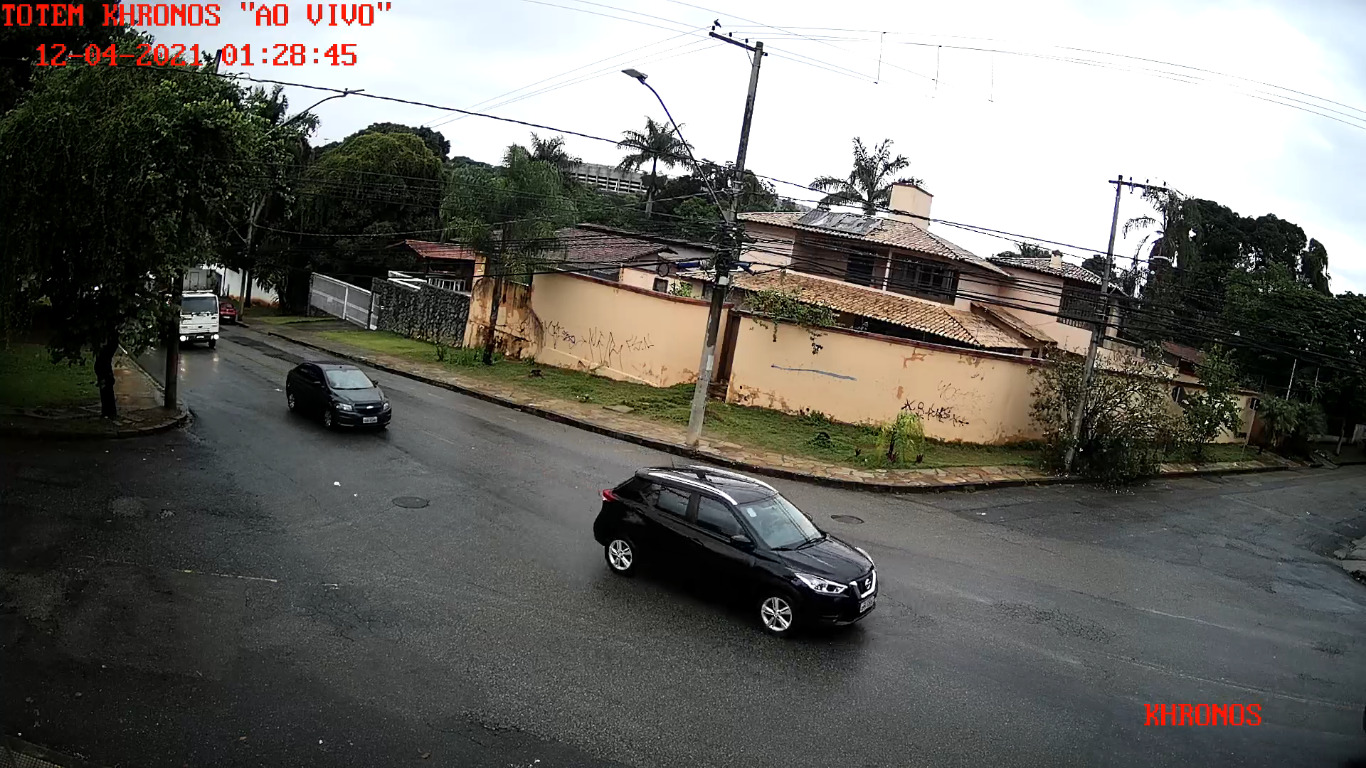car: (594, 462, 880, 634), (286, 361, 393, 432)
